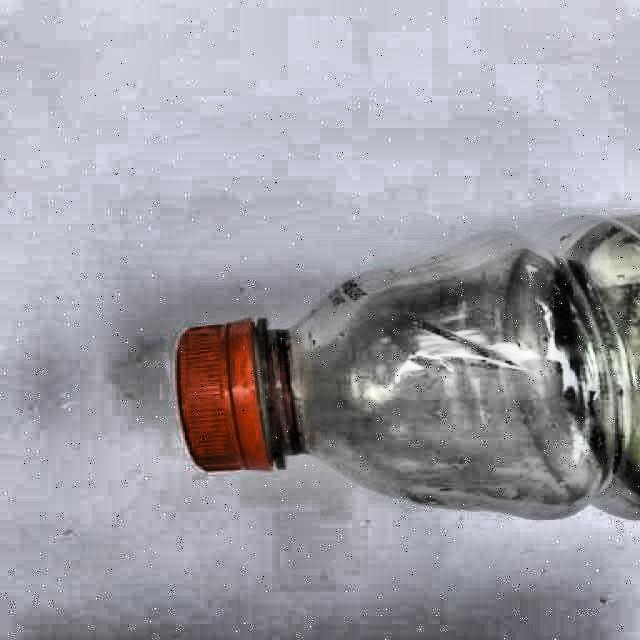plastic: (176, 215, 639, 517)
